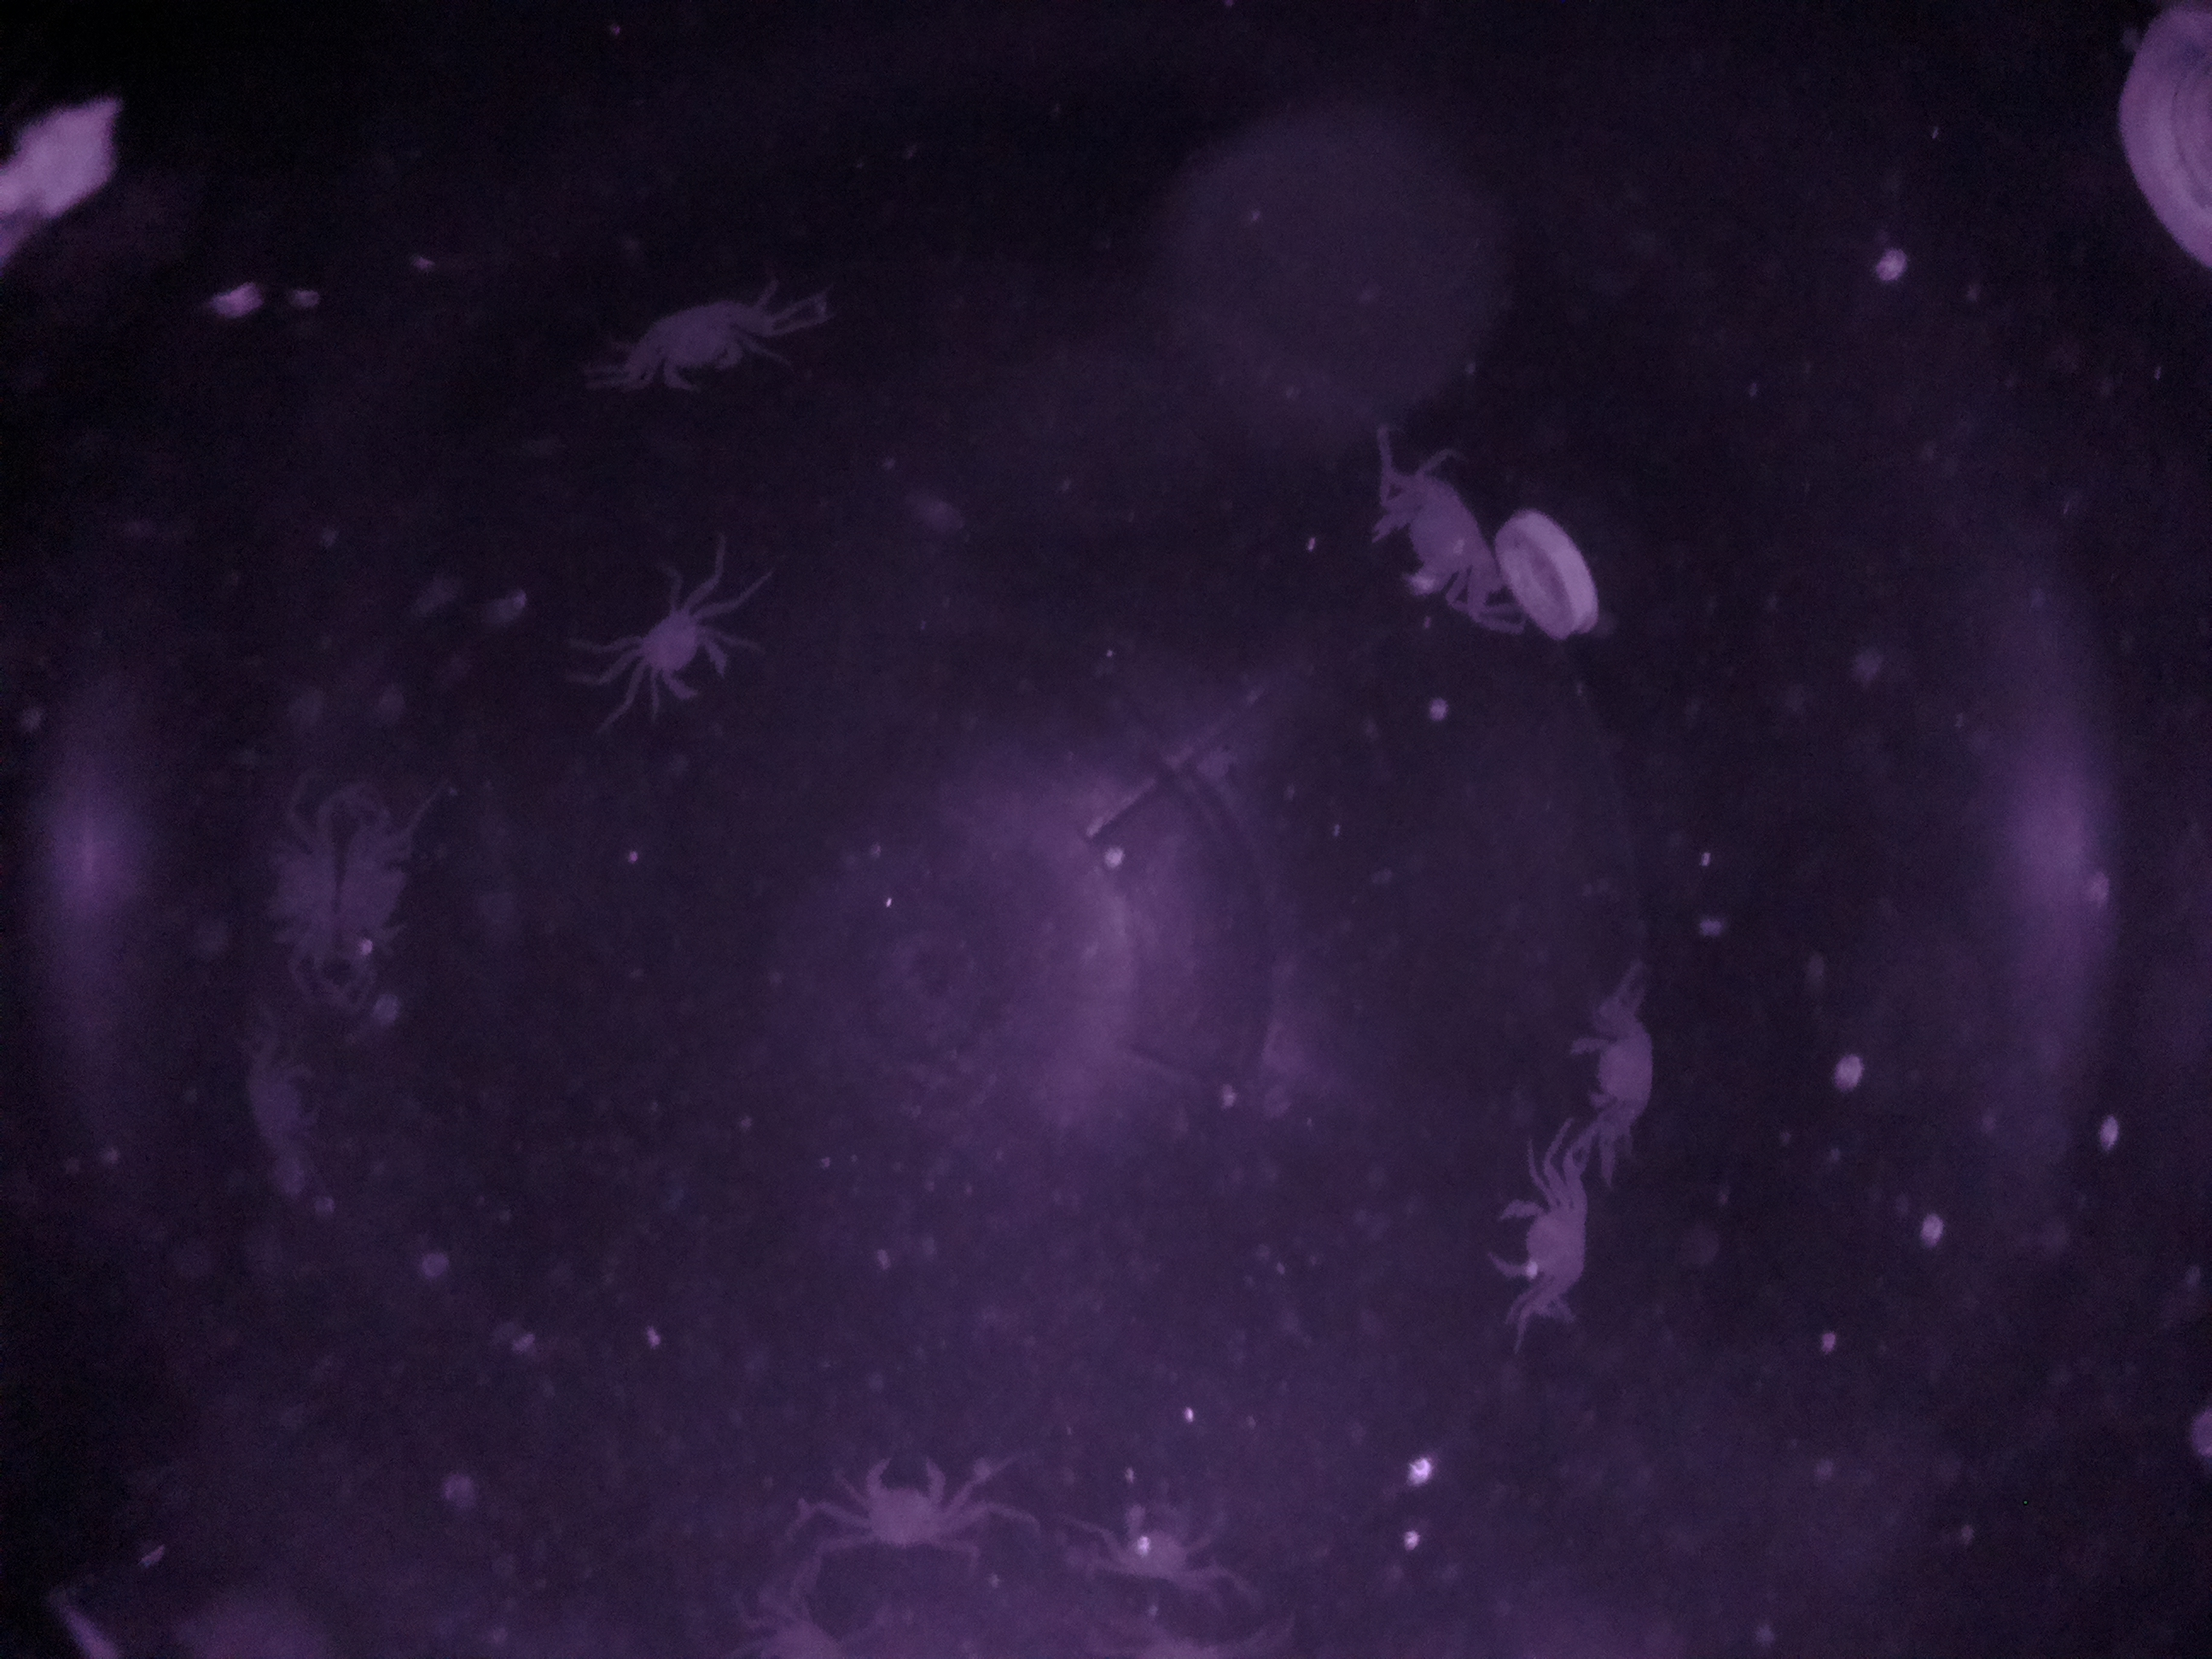Crab: (594, 254, 794, 427), (815, 1424, 984, 1579), (1468, 1166, 1622, 1323), (610, 573, 756, 721)
